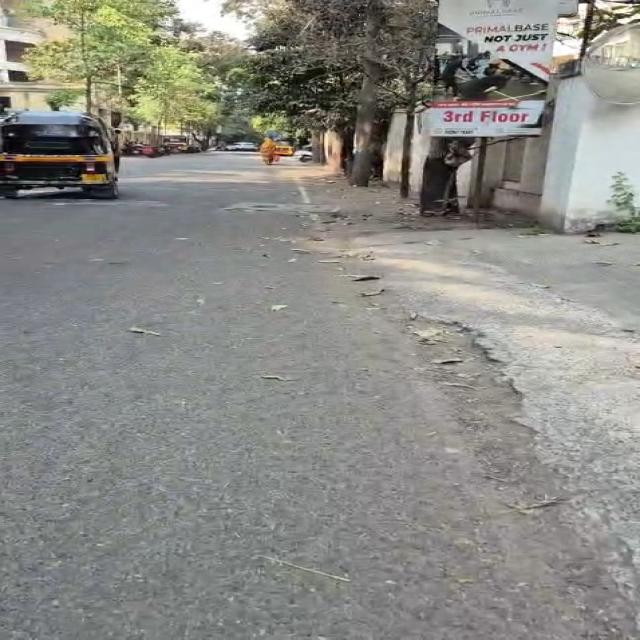obstacle: (351, 0, 382, 186), (421, 138, 459, 216), (351, 73, 377, 187), (399, 89, 415, 198), (473, 138, 488, 224), (579, 0, 597, 62), (326, 128, 342, 173), (341, 126, 354, 177), (311, 130, 325, 164), (85, 77, 93, 112)
vehical: (0, 112, 117, 198)
